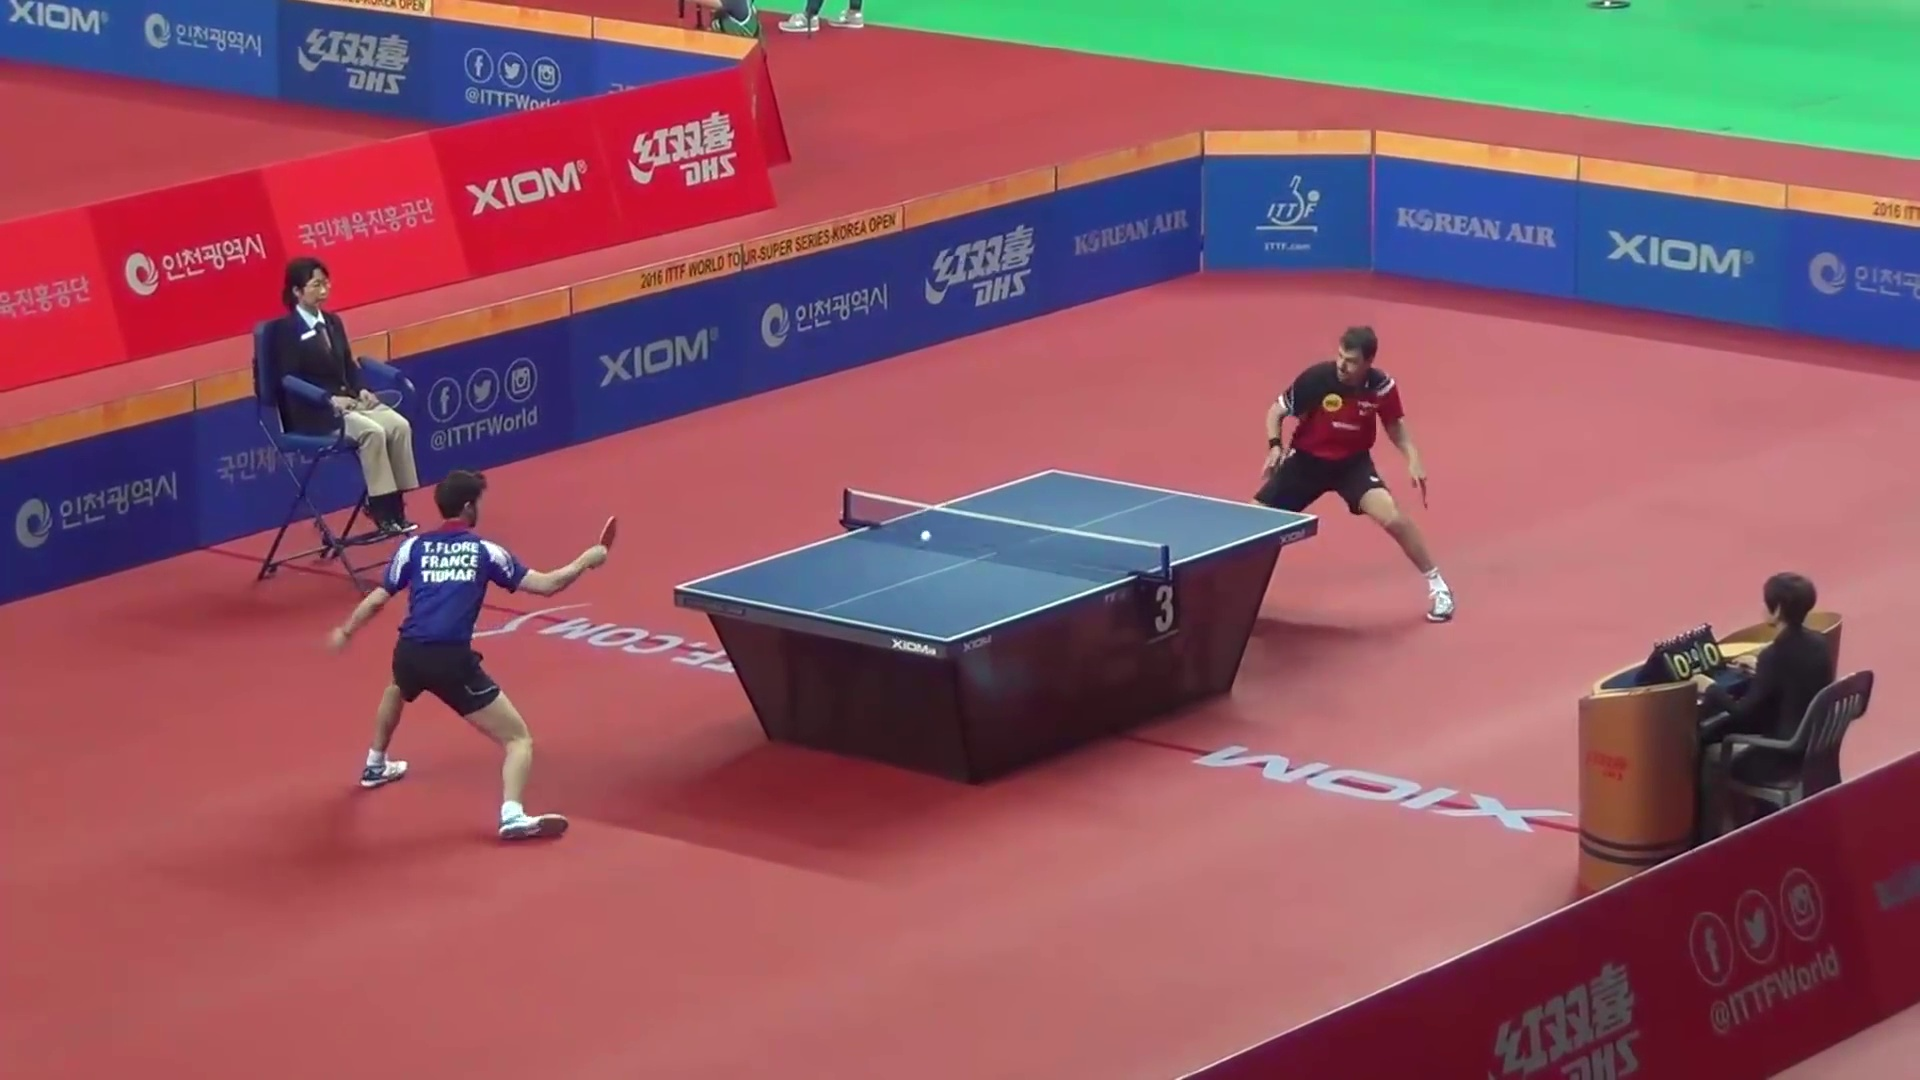raquette_flore_noire: (599, 520, 617, 547)
